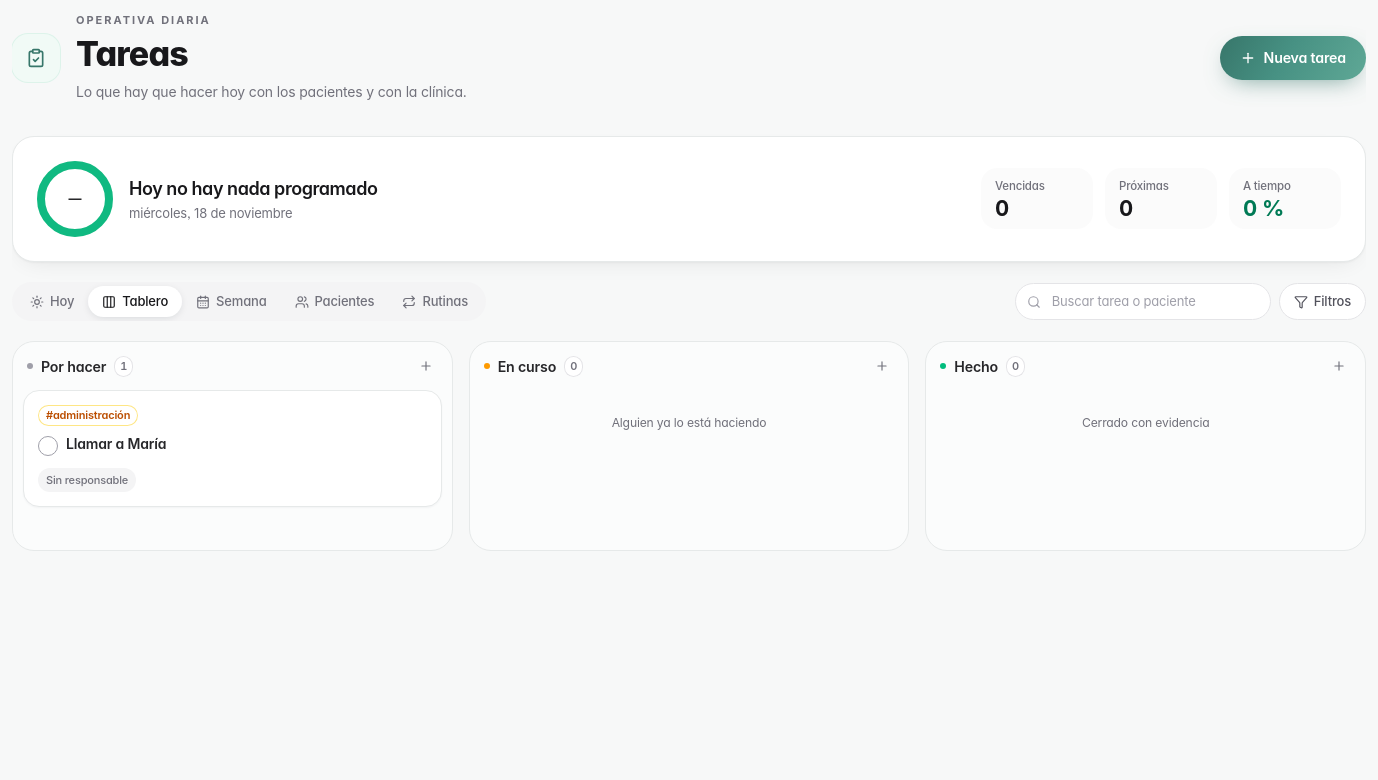
Test: TasksWorkspace — check rápido optimista › marca la tarea como hecha al instante y la revierte si el PATCH falla
Click the button "Hoy": (52, 302) x1=16 y1=286 x2=88 y2=317
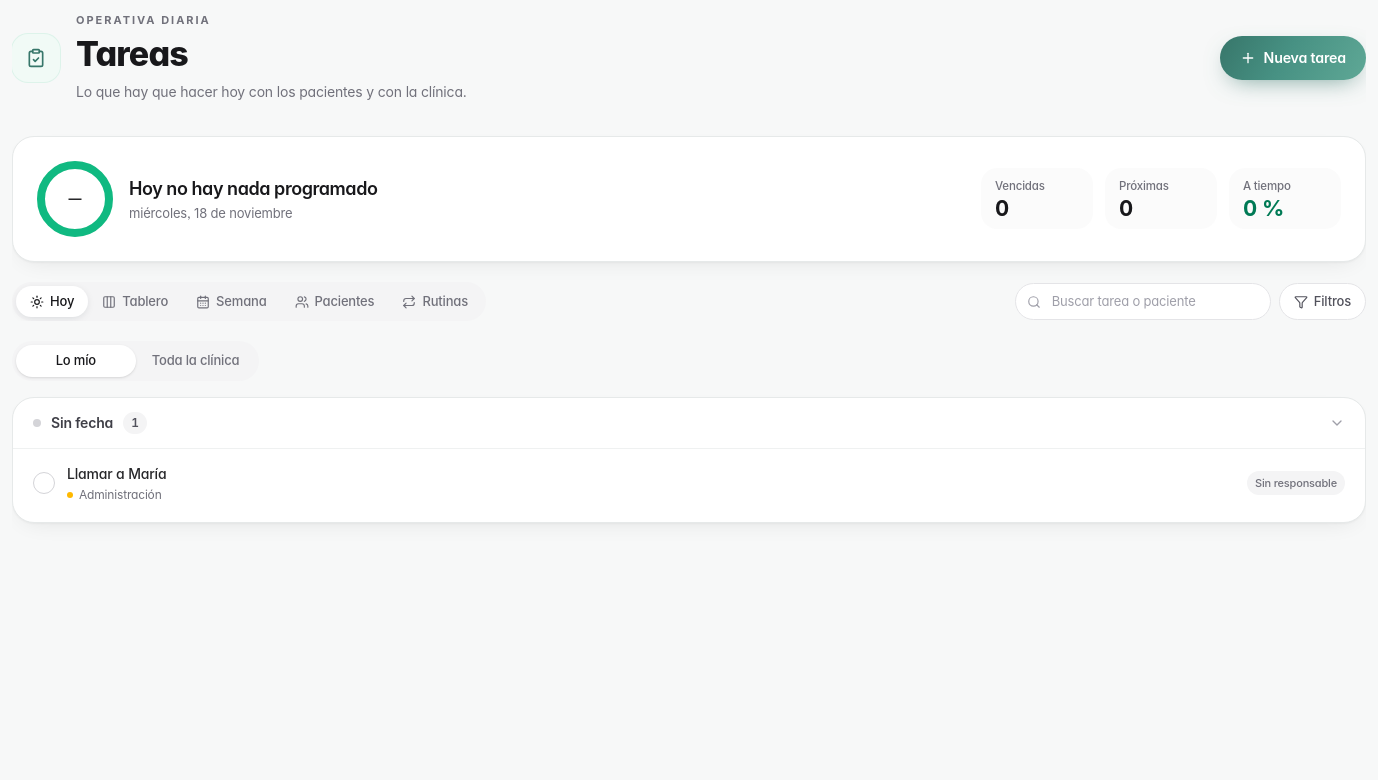
Click the button named "Marcar como hecha": (44, 483) x1=33 y1=472 x2=55 y2=494
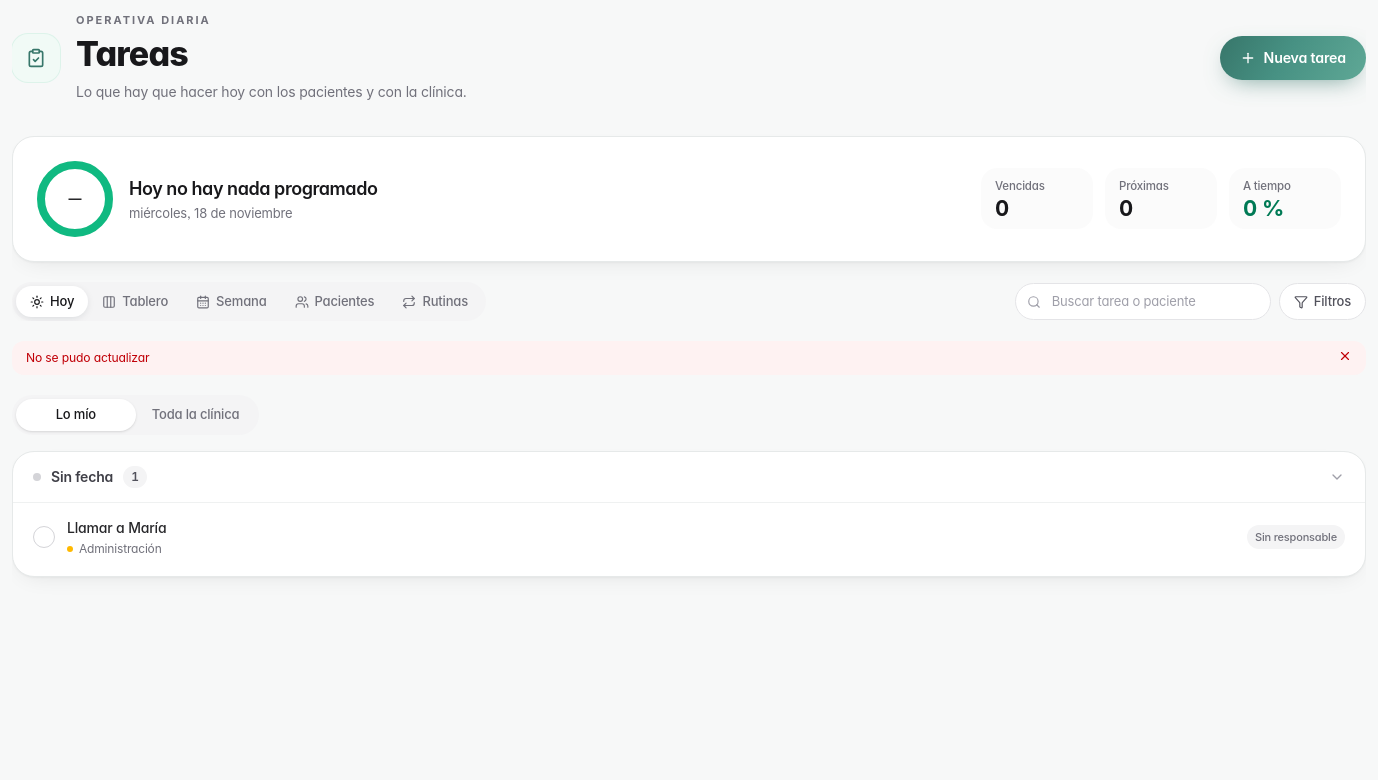
Result: the button named "Marcar como hecha" is shown at x1=33 y1=526 x2=55 y2=548
Result: the text "No se pudo actualizar" is shown at x1=26 y1=350 x2=149 y2=365
